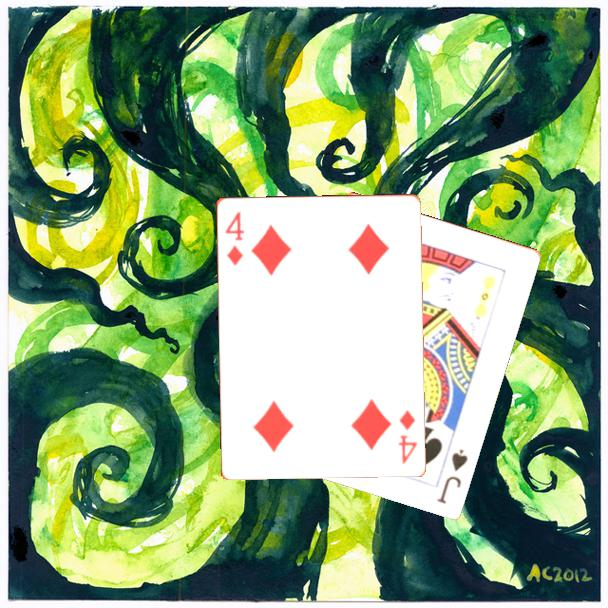d04: (394, 406, 420, 466), (221, 208, 246, 268)
s11: (433, 445, 470, 506)
